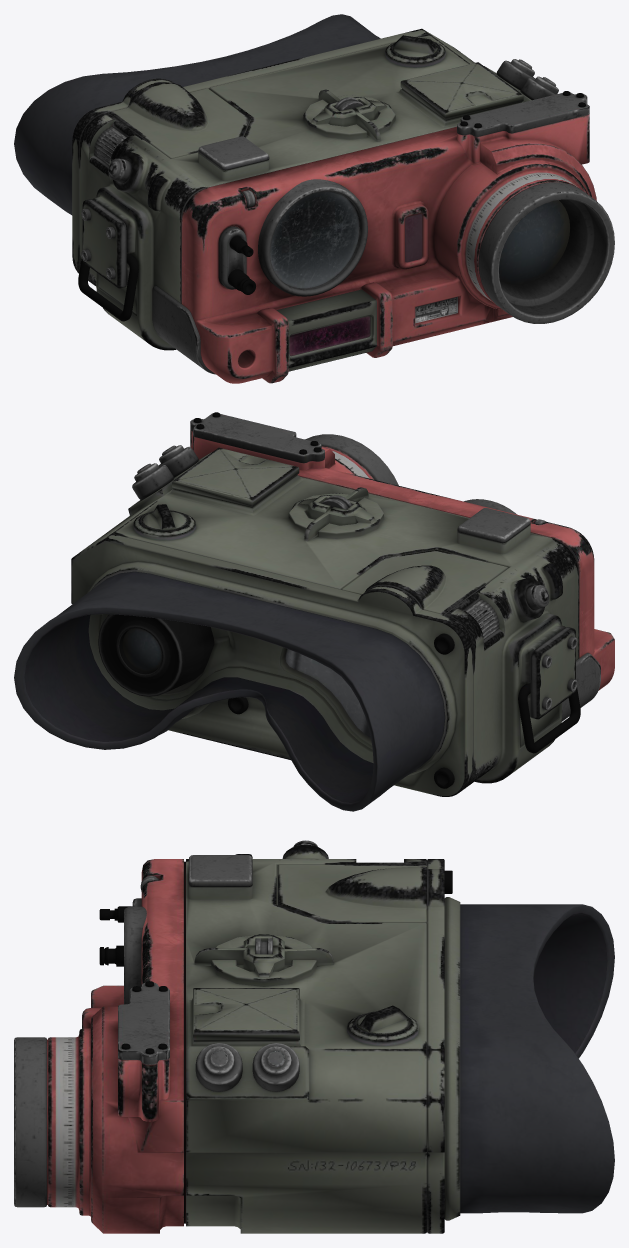
Rendered from Blade_Runner_2049.fbx.
3 renders of one model, top to bottom at view 1: azimuth 30°, elevation 25°; view 2: azimuth 150°, elevation 25°; view 3: azimuth 270°, elevation 25°, orthographic. The views are drawn at different scales.
Visible parts, largest first — view 1: mesh0.dat.desirefx.me_.obj, mesh1.dat.desirefx.me_.obj; view 2: mesh0.dat.desirefx.me_.obj, mesh1.dat.desirefx.me_.obj; view 3: mesh0.dat.desirefx.me_.obj.
Part boxes in pixels (x1,y1,x2,y2): mesh0.dat.desirefx.me_.obj: (14,14,614,383); mesh1.dat.desirefx.me_.obj: (499,200,569,284); mesh0.dat.desirefx.me_.obj: (14,412,614,811); mesh1.dat.desirefx.me_.obj: (122,628,161,671); mesh0.dat.desirefx.me_.obj: (14,840,614,1233).
Size of the model in its own units: 19.38 by 8.9 by 20.
